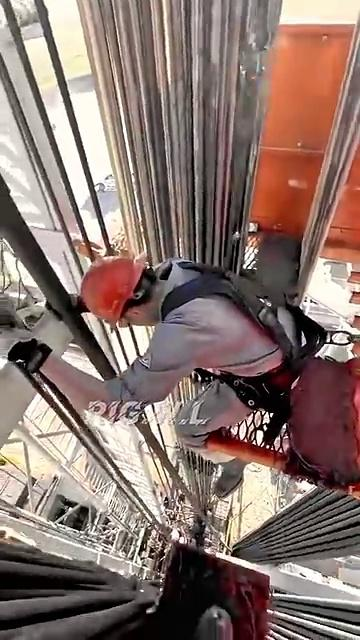gloves: (0, 327, 38, 408)
helmet: (70, 245, 170, 335)
shoes: (212, 425, 278, 518)
worker: (17, 212, 315, 508)
